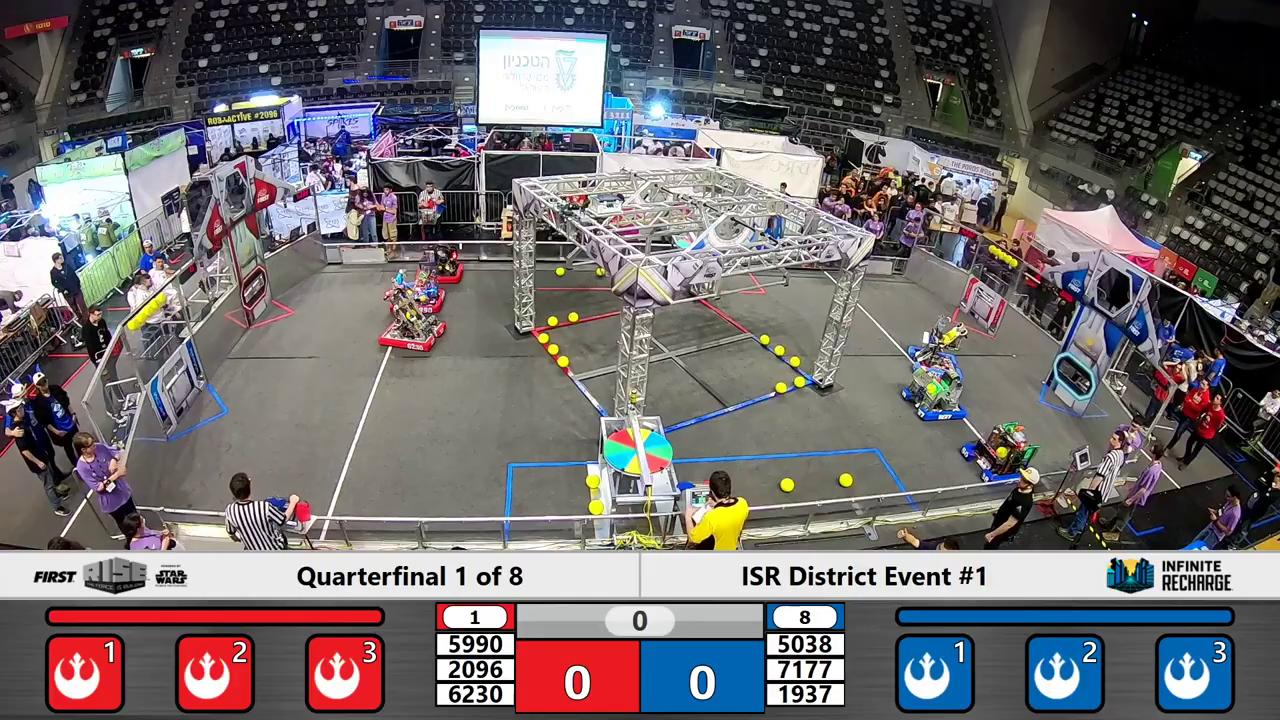robot: (959, 421, 1033, 484), (378, 292, 445, 351), (908, 315, 963, 381), (901, 367, 966, 421), (386, 268, 445, 312), (416, 244, 463, 283)
